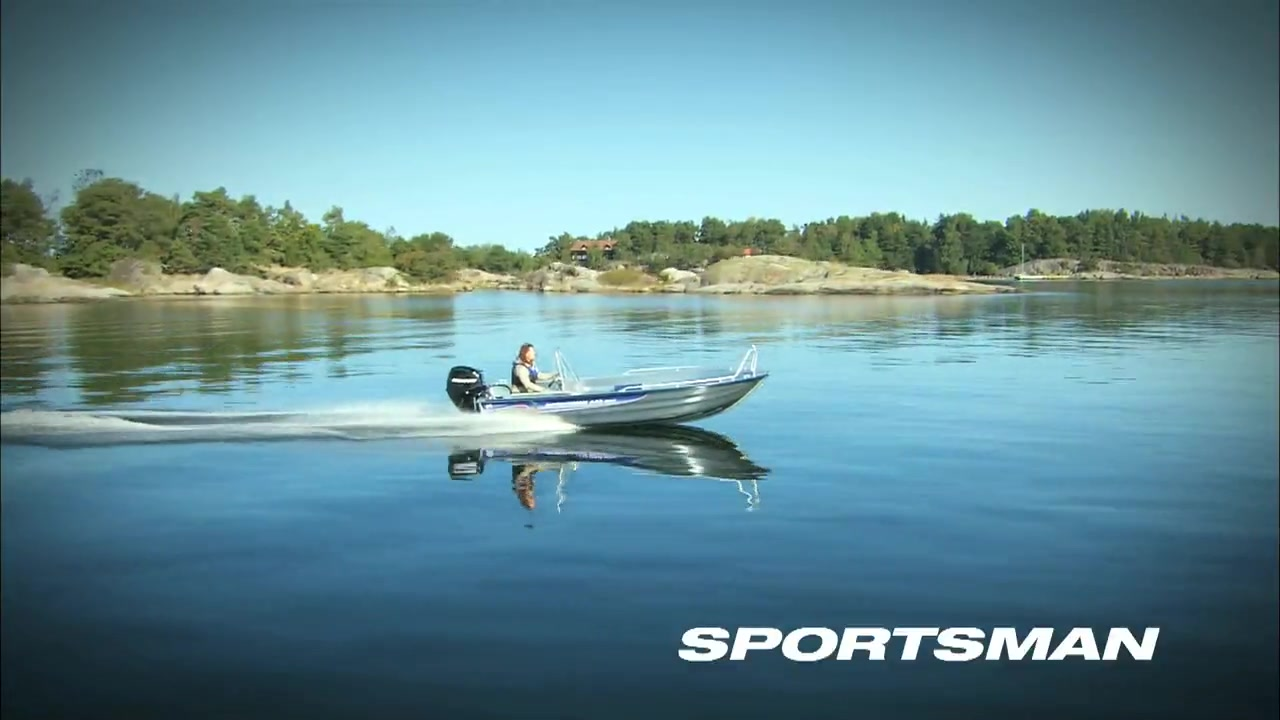boat: (446, 347, 770, 434)
